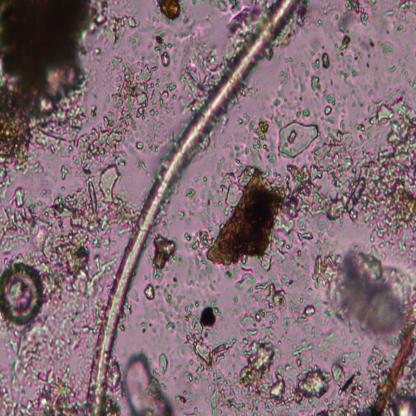Background material: (0, 0, 105, 165), (317, 99, 416, 250), (186, 162, 293, 282), (74, 56, 161, 175), (315, 250, 416, 345), (51, 165, 136, 241), (0, 323, 45, 415), (238, 338, 295, 410), (0, 188, 53, 264), (371, 329, 416, 415), (45, 292, 99, 363), (44, 240, 109, 294), (122, 350, 173, 416), (284, 160, 320, 248), (191, 306, 236, 373), (239, 274, 286, 338), (34, 365, 86, 415), (317, 366, 369, 414), (177, 46, 216, 110), (172, 336, 204, 409), (206, 374, 252, 416), (157, 286, 191, 336), (298, 1, 334, 48), (277, 119, 319, 157), (337, 0, 380, 34), (150, 74, 178, 126), (243, 116, 277, 158), (105, 12, 141, 50), (151, 230, 180, 277), (294, 368, 334, 402), (334, 35, 360, 82), (121, 298, 152, 336), (357, 36, 384, 79), (382, 0, 416, 33), (273, 58, 294, 106), (288, 297, 316, 331), (389, 56, 416, 90), (309, 52, 331, 92), (157, 0, 185, 26), (152, 34, 172, 68), (294, 340, 314, 370), (319, 93, 335, 127), (292, 106, 309, 121), (381, 41, 394, 57), (144, 282, 155, 300), (184, 185, 196, 201), (58, 165, 69, 180)
Diatom: (0, 262, 43, 324)
Microfibre: (88, 0, 295, 415)
